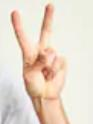front: (9, 2, 70, 98)
